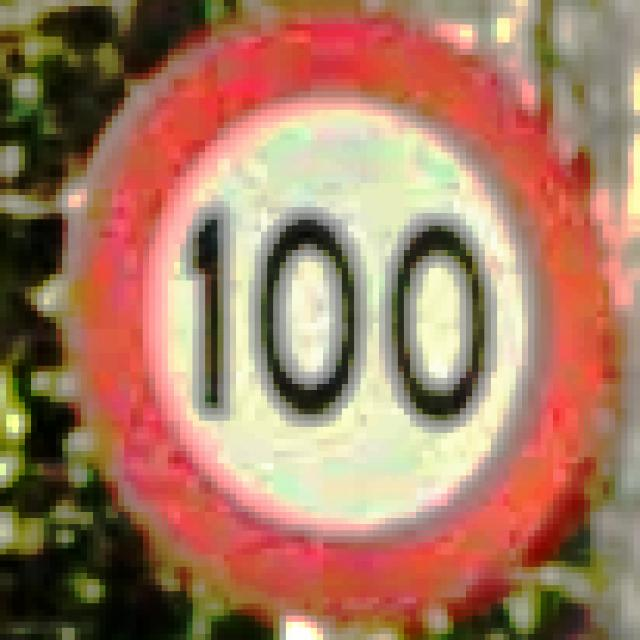max100: (56, 0, 627, 628)
